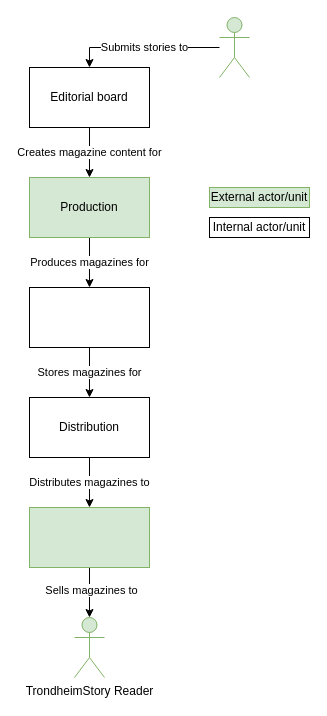
The diagram is 327 pixels wide and 716 high, and some of its shapes have lost their labels. The shapes that lost their labels are listed below. From the top down, each one's centre as x and y in pixels, then its label:
At (x=234, y=47): "TrondheimStory Storywriter".
At (x=89, y=317): "Warehouse".
At (x=89, y=537): "Coffee shops".
